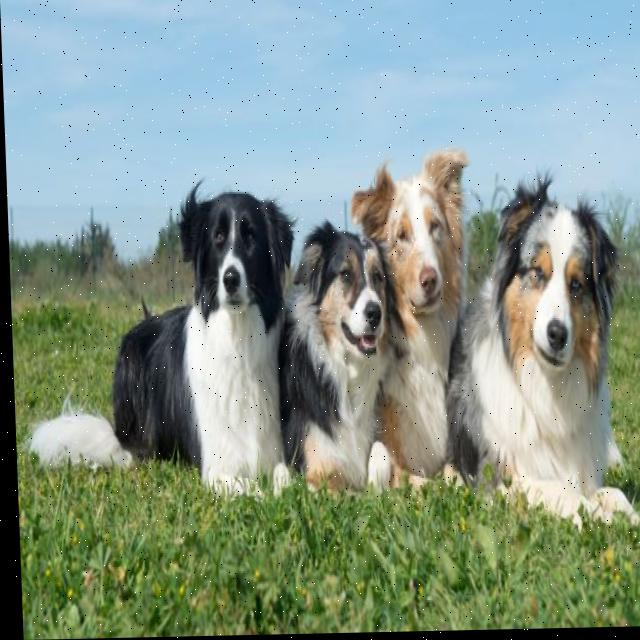BORDER_COLLIE: (16, 176, 311, 505), (344, 139, 482, 502)
